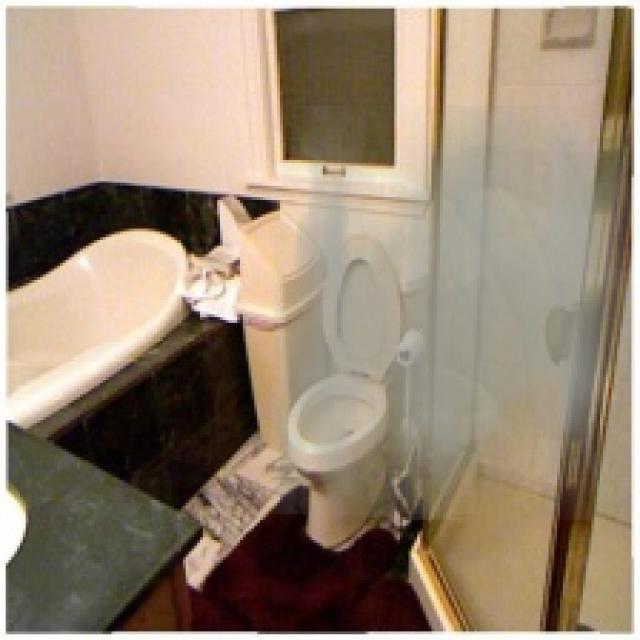Smoke: (272, 106, 634, 520)
